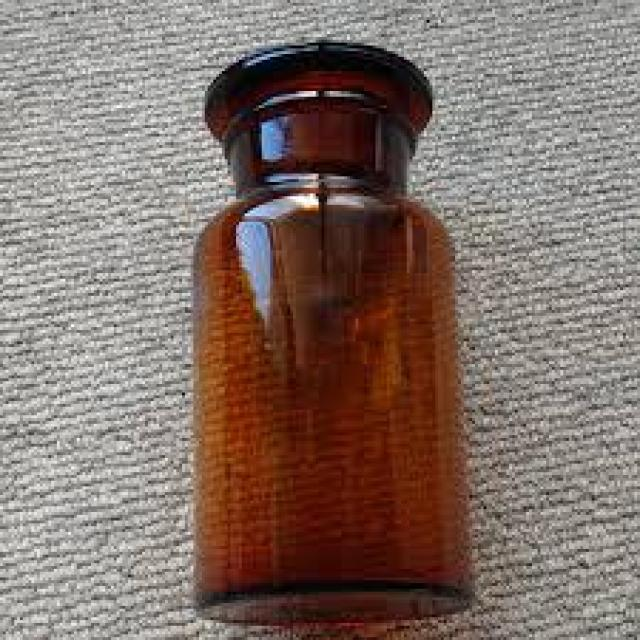glass: (193, 43, 466, 620)
